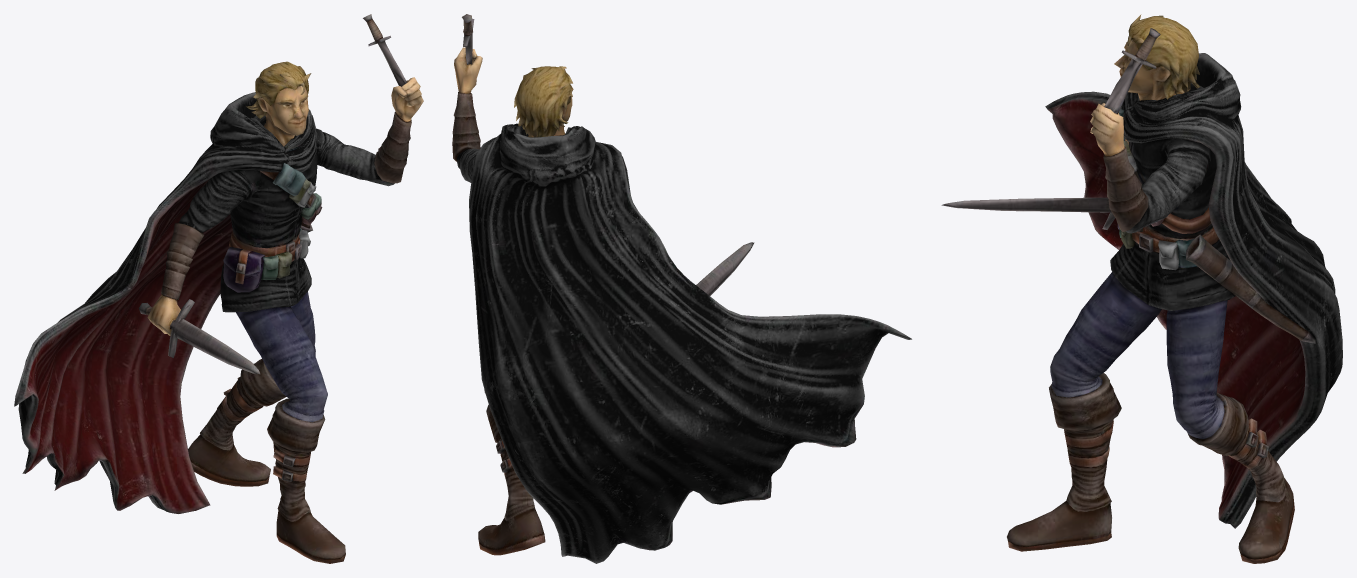
Rendered from MZ4250 - Spy Male 02.glb.
The picture shows the model from 3 angles, left to right: view 1: azimuth 30°, elevation 25°; view 2: azimuth 150°, elevation 25°; view 3: azimuth 270°, elevation 25°; orthographic projection. The views are drawn at different scales.
Parts seen in each view (by area): view 1: SpyMale01; view 2: SpyMale01; view 3: SpyMale01.
Boxes of the visible parts, x1,y1,x2,y2 form: SpyMale01: (14,14,423,563); SpyMale01: (452,14,911,563); SpyMale01: (941,14,1342,563).
Size of the model in its own units: 0.9795 by 1.05 by 0.6668.
Materials: 1 (1 with a texture image).
